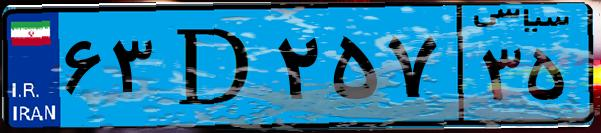2: (270, 28, 330, 110)
3: (475, 38, 525, 113), (110, 28, 158, 98)
5: (330, 28, 385, 110), (525, 38, 570, 115)
6: (57, 26, 110, 100)
7: (385, 28, 445, 110)
D: (158, 12, 270, 120)
